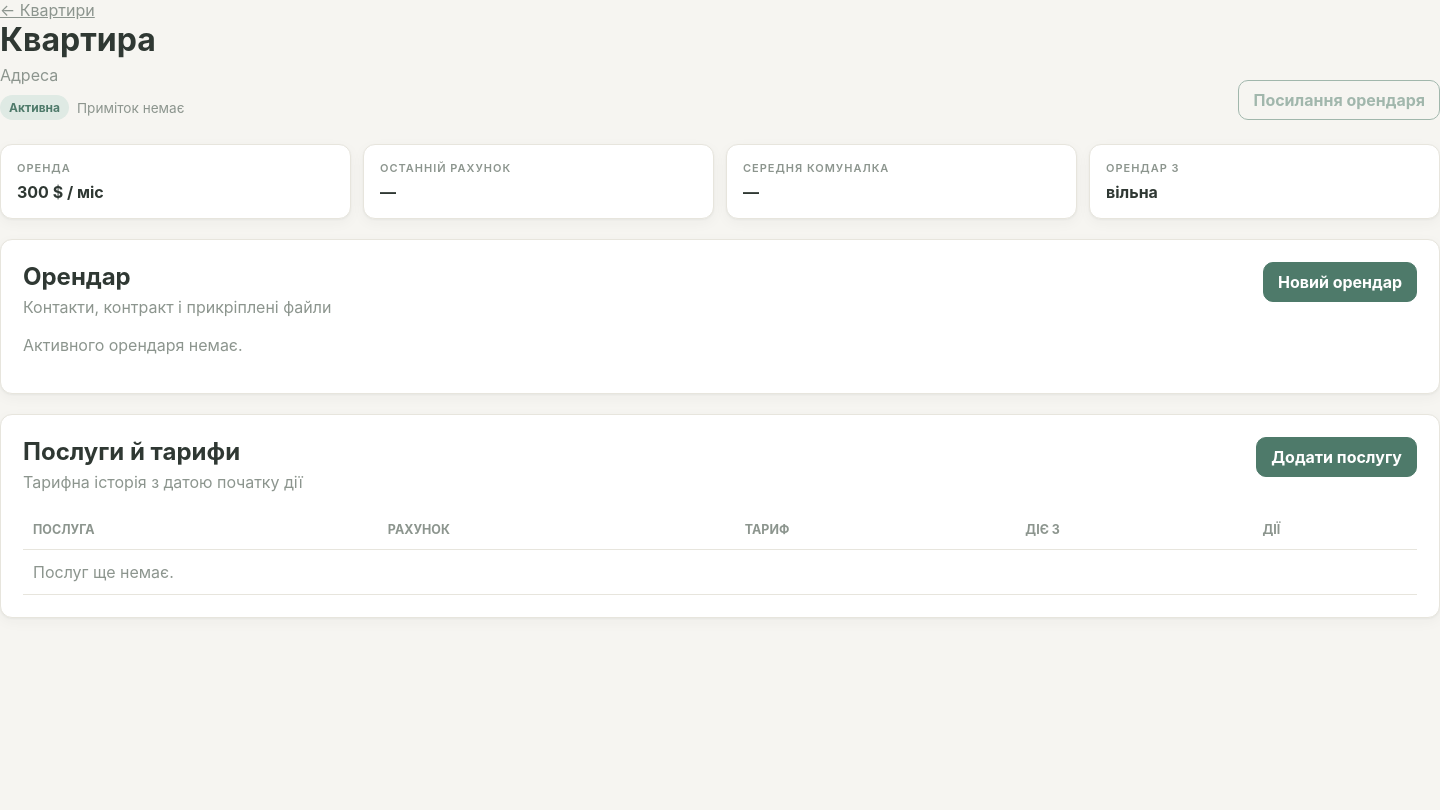
ApartmentDetail › reports refresh failure separately after a service was created successfully
Click the button "Додати послугу": {"x": 1337, "y": 457} [1256, 437, 1417, 477]
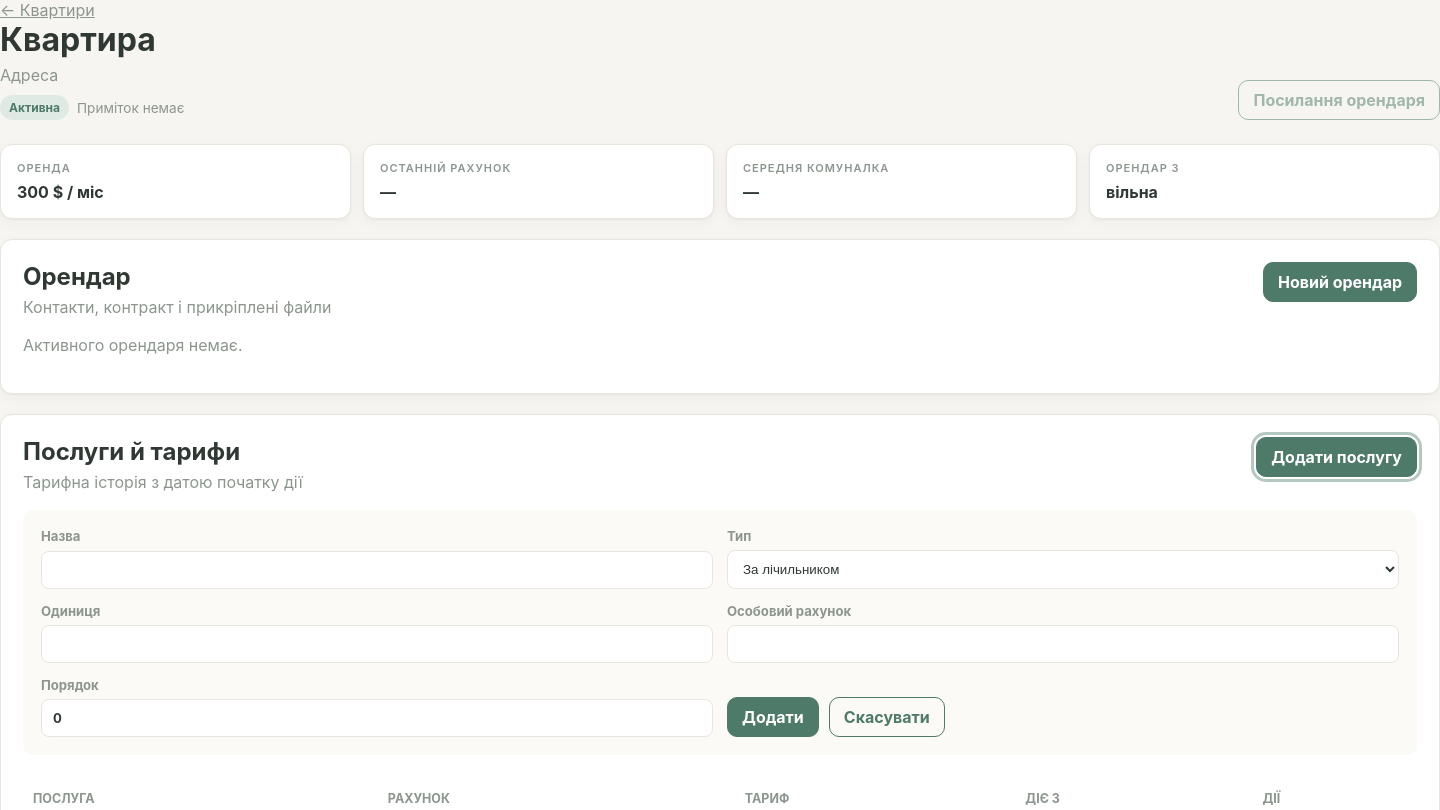
In the field labelled "Назва": {"x": 377, "y": 570} [41, 550, 713, 589], type "Газ"
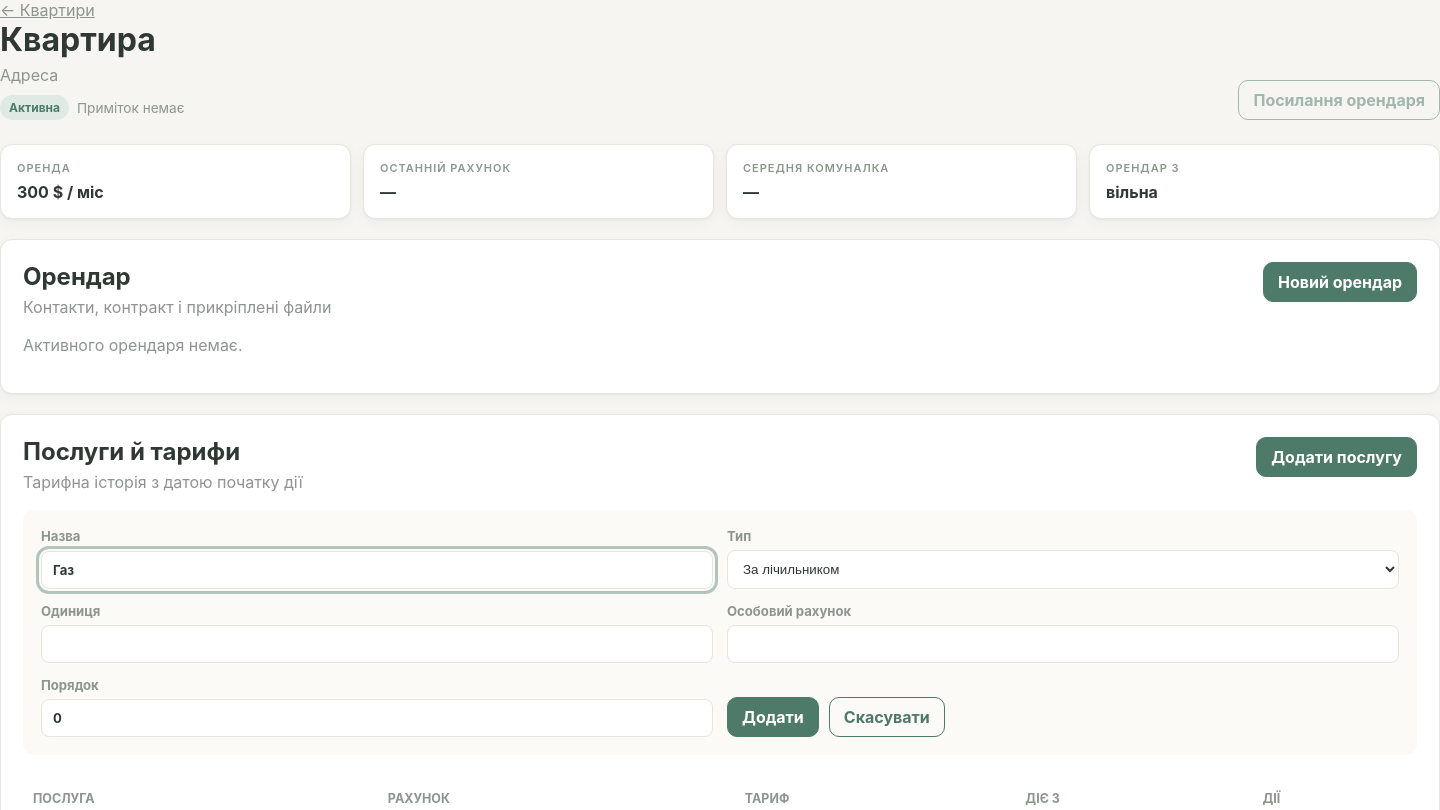
Click the button "Додати": {"x": 773, "y": 717} [727, 697, 819, 737]
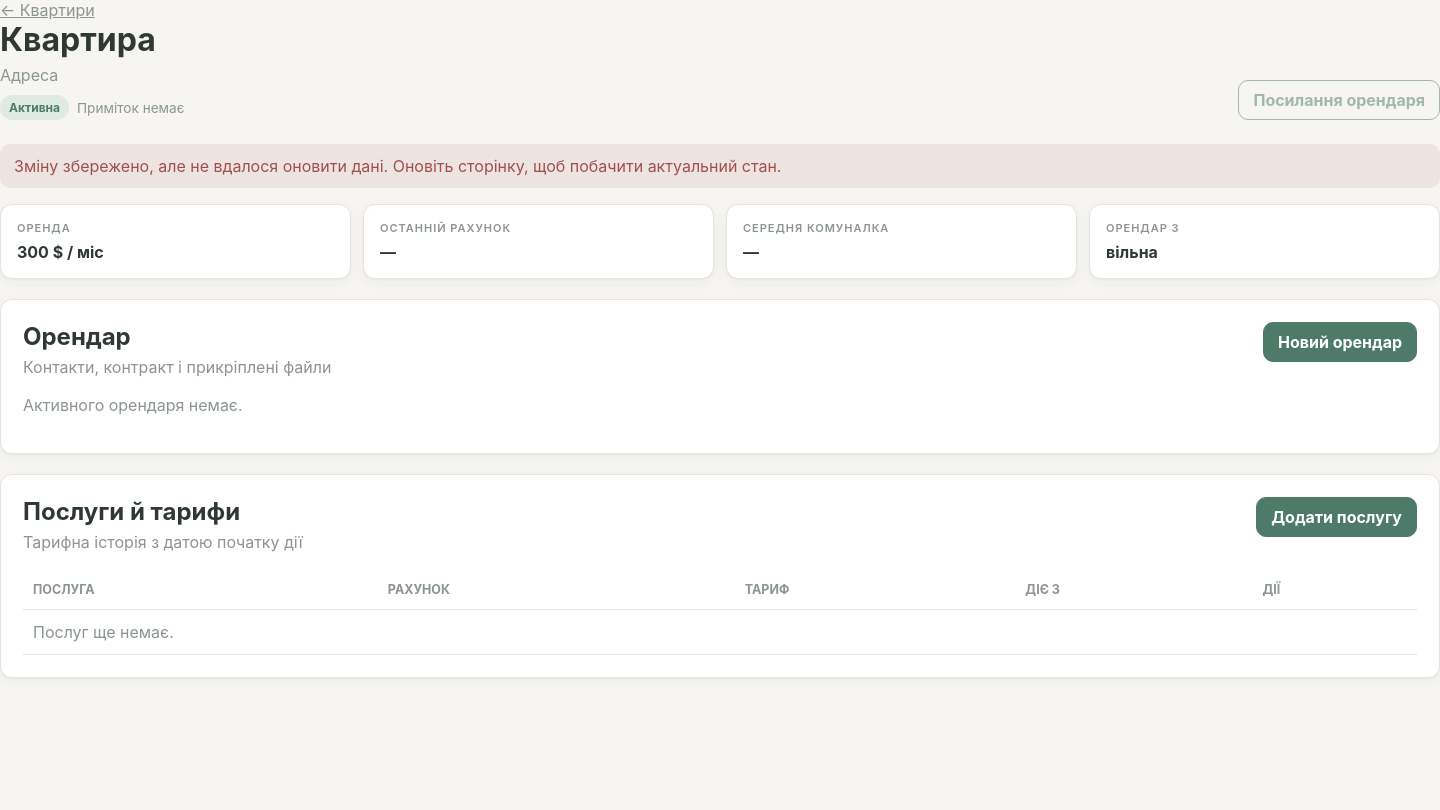
Now the text "Зміну збережено, але не вдалося оновити дані" is shown, box [14, 156, 782, 176]
